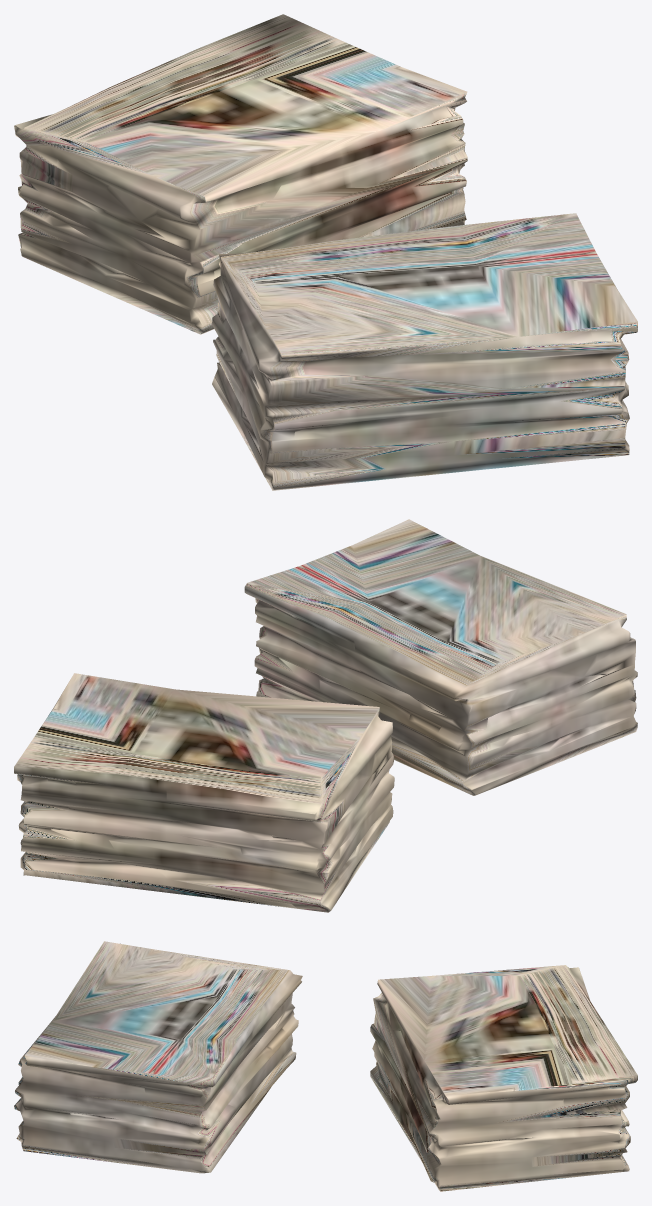
The model's file is newspaper_stack.glb.
3 views of the same model, one above another, from view 1: azimuth 30°, elevation 25°; view 2: azimuth 150°, elevation 25°; view 3: azimuth 270°, elevation 25° (orthographic). The views are drawn at different scales.
Parts seen in each view (by area): view 1: body; view 2: body; view 3: body.
Boxes of the visible parts, box(x1,y1,x2,y2) form: body: box(14, 14, 637, 490); body: box(14, 519, 637, 912); body: box(14, 941, 637, 1191).
Size of the model in its own units: 1.4 by 0.4198 by 2.34.
1 material, 1 textured.
